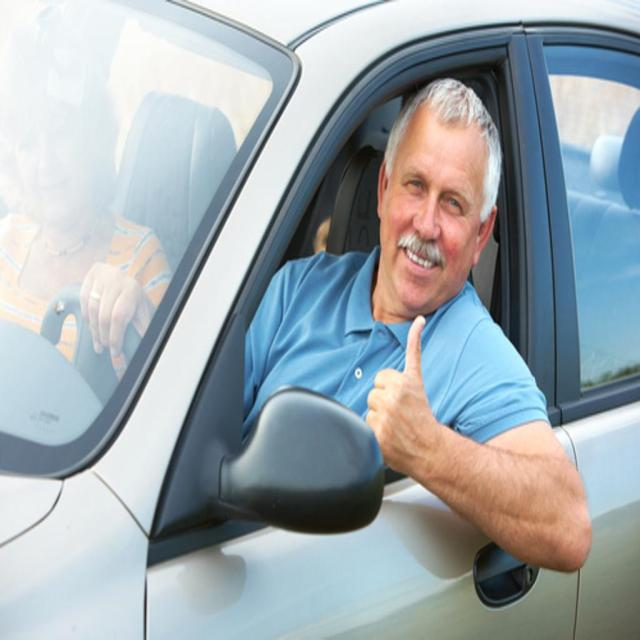Face: (390, 107, 504, 304)
